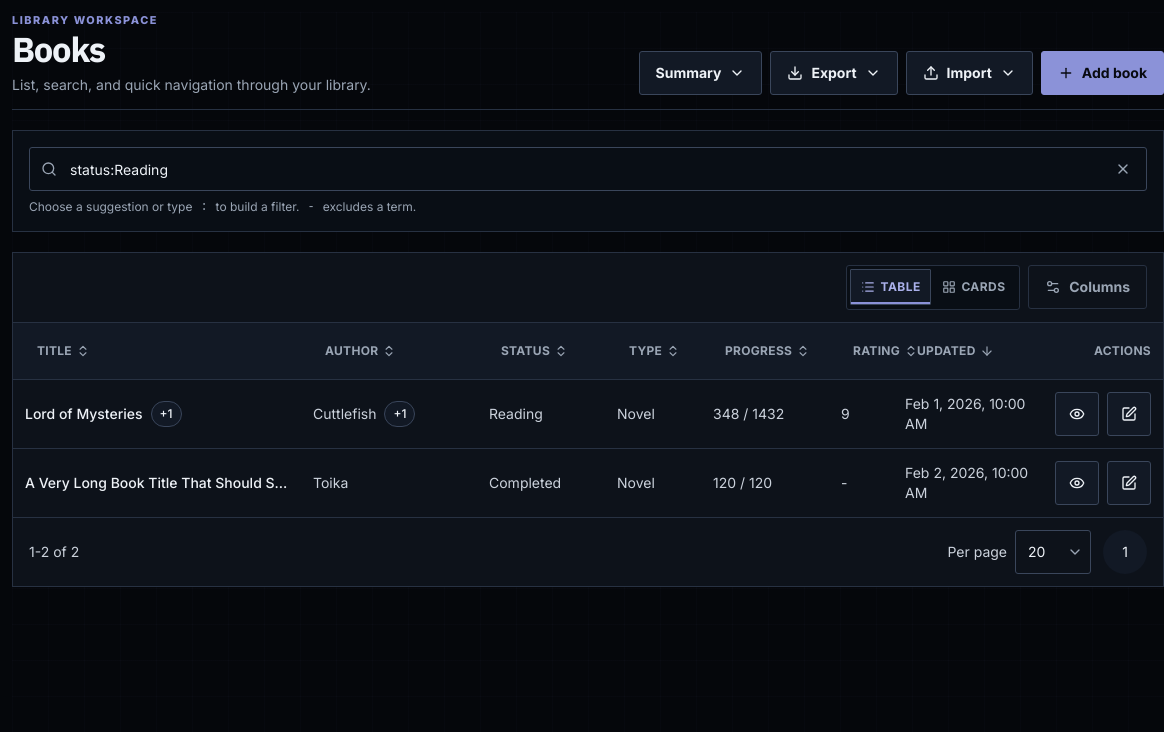
Test: BooksPage › clears the active search from the right-side clear button
This screenshot has width=1164, height=732.
Click the button named "clear search and filters": (1123, 169) [1105,151,1141,187]
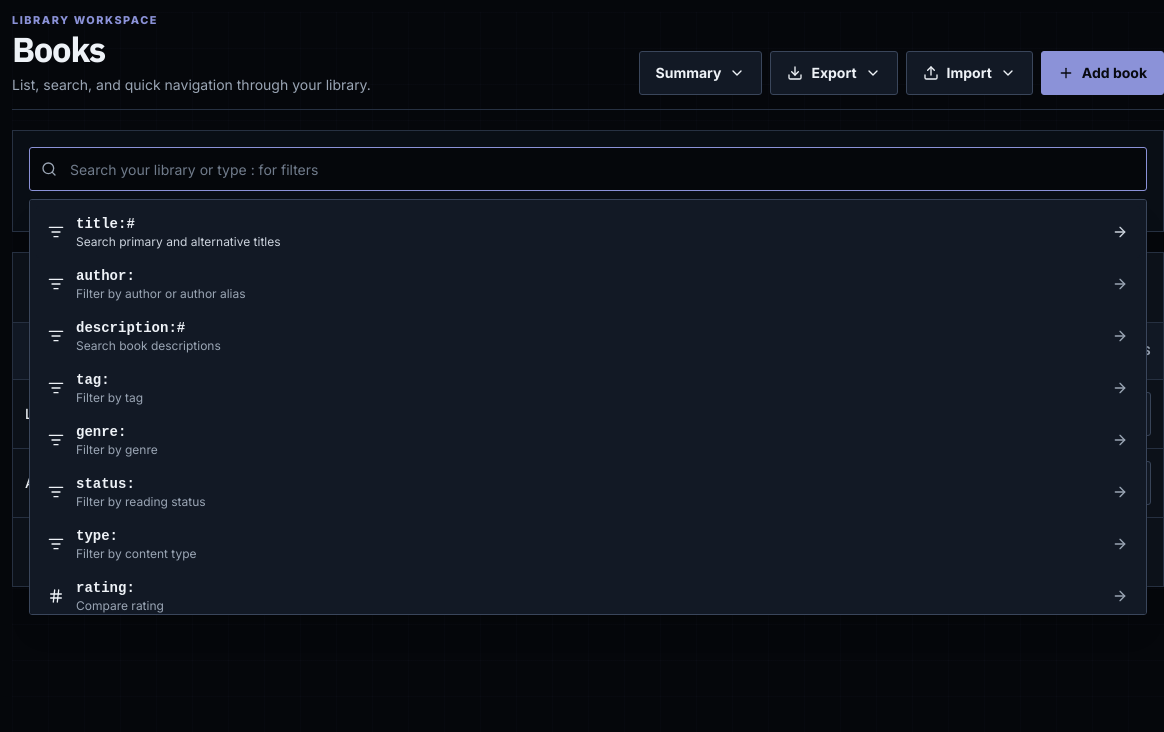
Check: the dropdown named "search books" is empty, box [29,147,1147,191]
